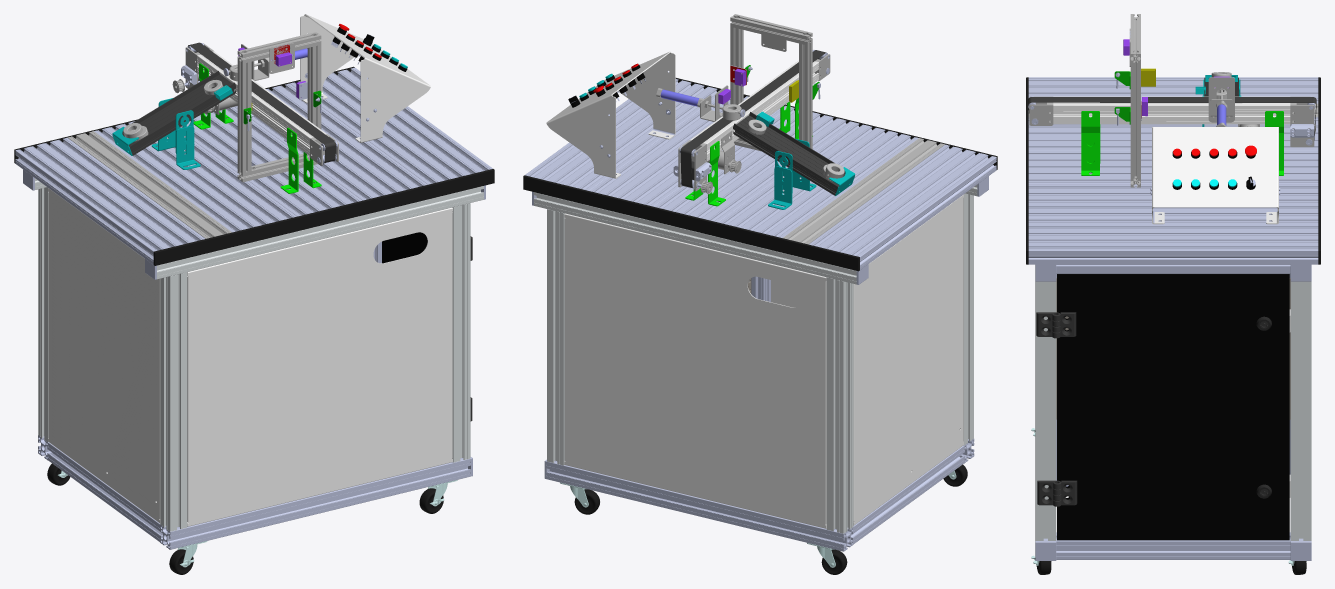
3 views of the same model, side by side, from view 1: azimuth 30°, elevation 25°; view 2: azimuth 150°, elevation 25°; view 3: azimuth 270°, elevation 25° (orthographic). The views are drawn at different scales.
Parts seen in each view (by area): view 1: inst_1829388, inst_1829402, inst_1829426, inst_1829384, inst_1829430, inst_1829427, inst_1829378, inst_1828905, inst_1829428, inst_1829429, inst_1829382, inst_1829377 (+19 smaller); view 2: inst_1829389, inst_1829402, inst_1829426, inst_1829385, inst_1828905, inst_1829427, inst_1829380, inst_1829428, inst_1829430, inst_1829381, inst_1829386, inst_1829429 (+17 smaller); view 3: inst_1829404, inst_1829430, inst_1828905, inst_1829429, inst_1829386, inst_1829382, inst_1829383, inst_1829428, inst_1829426, inst_1829153, inst_1829427, inst_1829379 (+14 smaller).
Boxes of the visible parts, left/top/right/bottom form: inst_1829388: left=187, top=207, right=452, bottom=526; inst_1829402: left=48, top=188, right=160, bottom=523; inst_1829426: left=15, top=137, right=205, bottom=264; inst_1829384: left=160, top=272, right=187, bottom=531; inst_1829430: left=290, top=67, right=492, bottom=184; inst_1829427: left=94, top=121, right=296, bottom=232; inst_1829378: left=160, top=458, right=470, bottom=549; inst_1828905: left=300, top=14, right=430, bottom=142; inst_1829428: left=180, top=107, right=361, bottom=216; inst_1829429: left=234, top=83, right=427, bottom=200; inst_1829382: left=452, top=203, right=470, bottom=462; inst_1829377: left=157, top=186, right=483, bottom=279; inst_1829389: left=564, top=213, right=826, bottom=528; inst_1829402: left=853, top=194, right=963, bottom=525; inst_1829426: left=809, top=144, right=996, bottom=269; inst_1829385: left=826, top=277, right=853, bottom=533; inst_1828905: left=546, top=51, right=675, bottom=178; inst_1829427: left=718, top=122, right=918, bottom=237; inst_1829380: left=546, top=460, right=853, bottom=551; inst_1829428: left=654, top=106, right=854, bottom=222; inst_1829430: left=525, top=79, right=717, bottom=190; inst_1829381: left=534, top=192, right=856, bottom=284; inst_1829386: left=547, top=209, right=564, bottom=465; inst_1829429: left=589, top=96, right=786, bottom=206; inst_1829404: left=1057, top=274, right=1289, bottom=540; inst_1829430: left=1028, top=217, right=1318, bottom=264; inst_1828905: left=1152, top=127, right=1278, bottom=224; inst_1829429: left=1028, top=184, right=1318, bottom=217; inst_1829386: left=1290, top=281, right=1311, bottom=540; inst_1829382: left=1035, top=281, right=1056, bottom=540; inst_1829383: left=1056, top=532, right=1290, bottom=559; inst_1829428: left=1028, top=150, right=1318, bottom=183; inst_1829426: left=1028, top=77, right=1318, bottom=103; inst_1829153: left=1053, top=96, right=1290, bottom=124; inst_1829427: left=1028, top=117, right=1318, bottom=150; inst_1829379: left=1056, top=264, right=1290, bottom=273.
Bounding box in the file's own units: 0.78 × 1.02 × 0.56.
